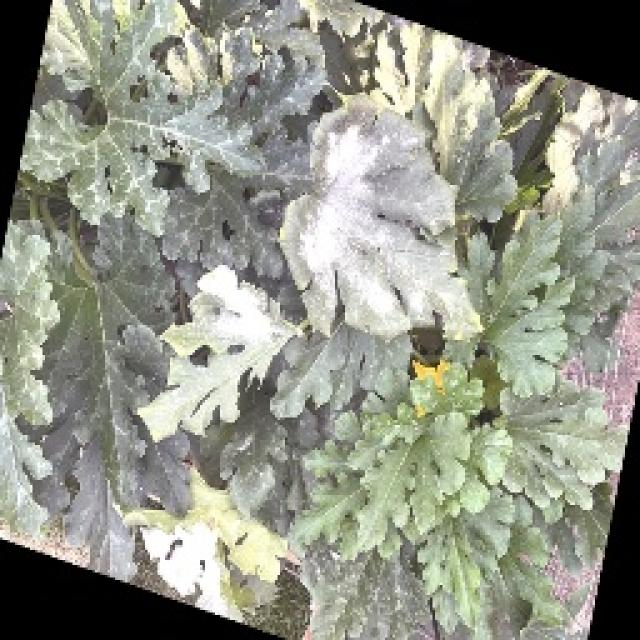Powdery Mildew: (121, 40, 432, 623)
